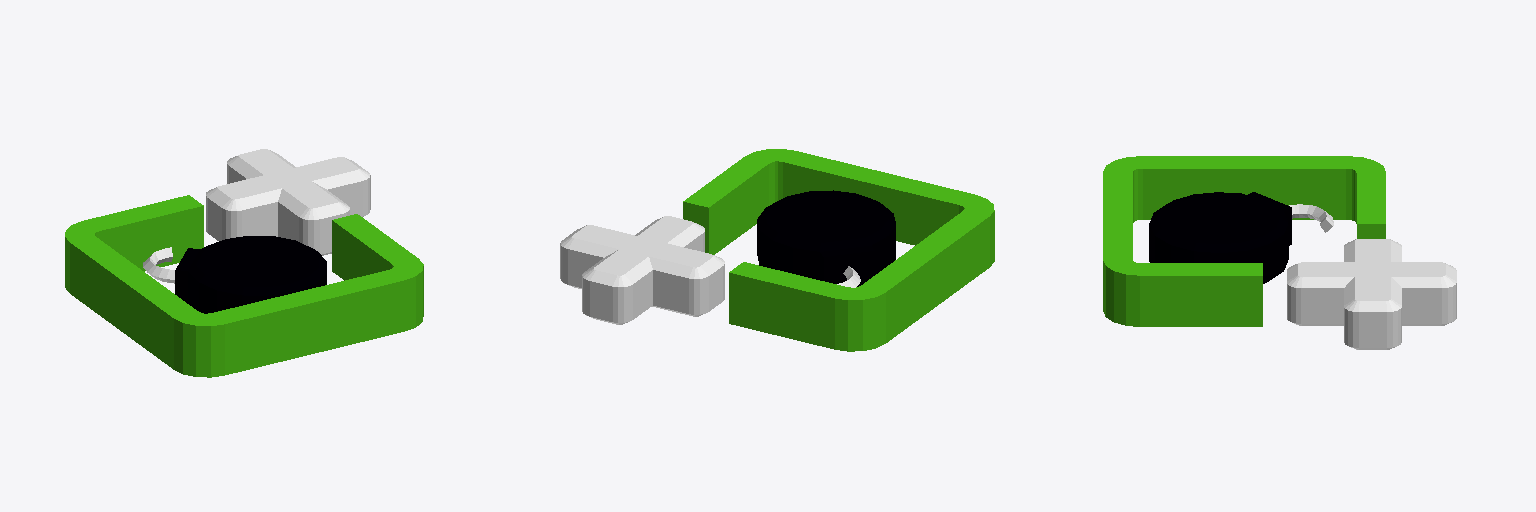
3 renders of one model, left to right at view 1: azimuth 30°, elevation 25°; view 2: azimuth 150°, elevation 25°; view 3: azimuth 270°, elevation 25°, orthographic.
Visible parts, largest first — view 1: BompUp; view 2: BompUp; view 3: BompUp.
Part boxes in pixels (bbox=[...]): BompUp: bbox=[65, 149, 423, 377]; BompUp: bbox=[560, 149, 994, 351]; BompUp: bbox=[1103, 156, 1456, 349].
Bounding box in the file's own units: 0.8681 × 0.14 × 0.8752.
1 materials, 1 textured.